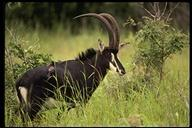antelope: (13, 11, 129, 122)
grass: (101, 86, 188, 125)
tree: (127, 2, 189, 83)
